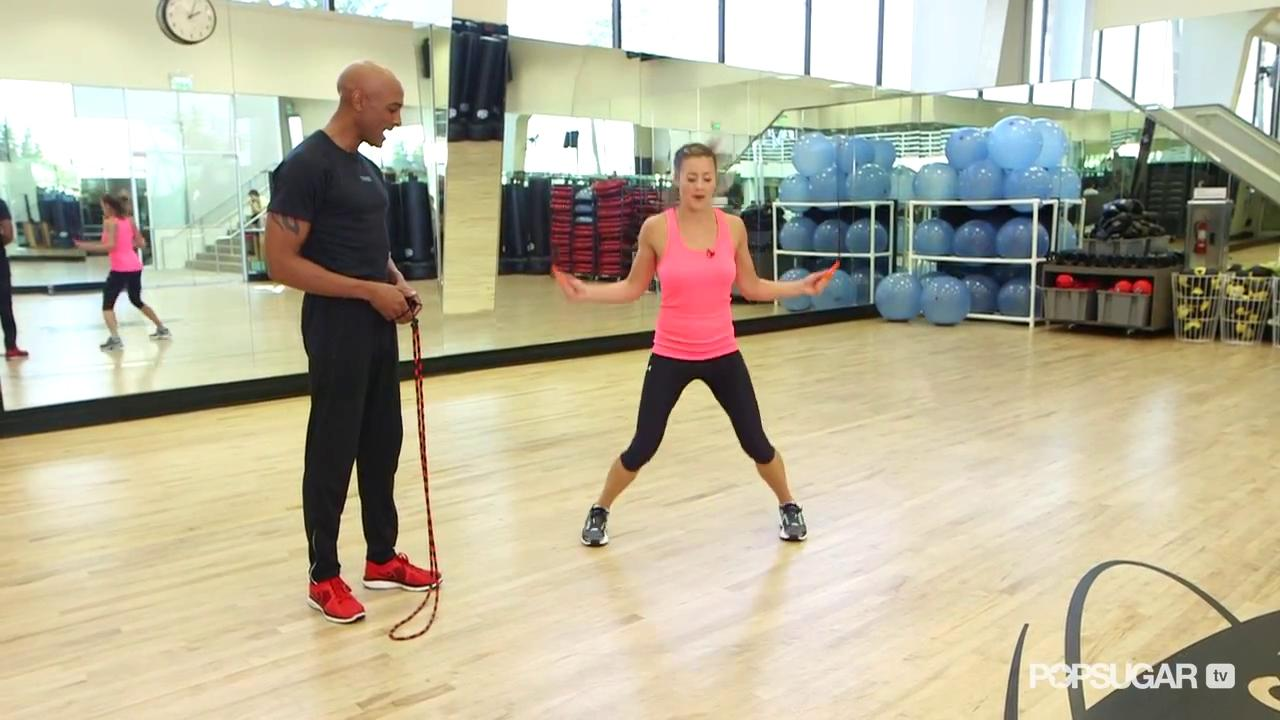victim: (537, 138, 852, 562), (262, 56, 448, 635), (65, 187, 181, 355)
